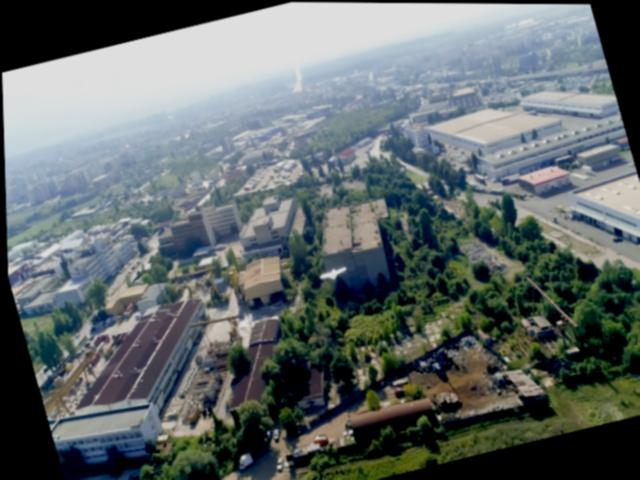plane: (315, 263, 347, 286)
